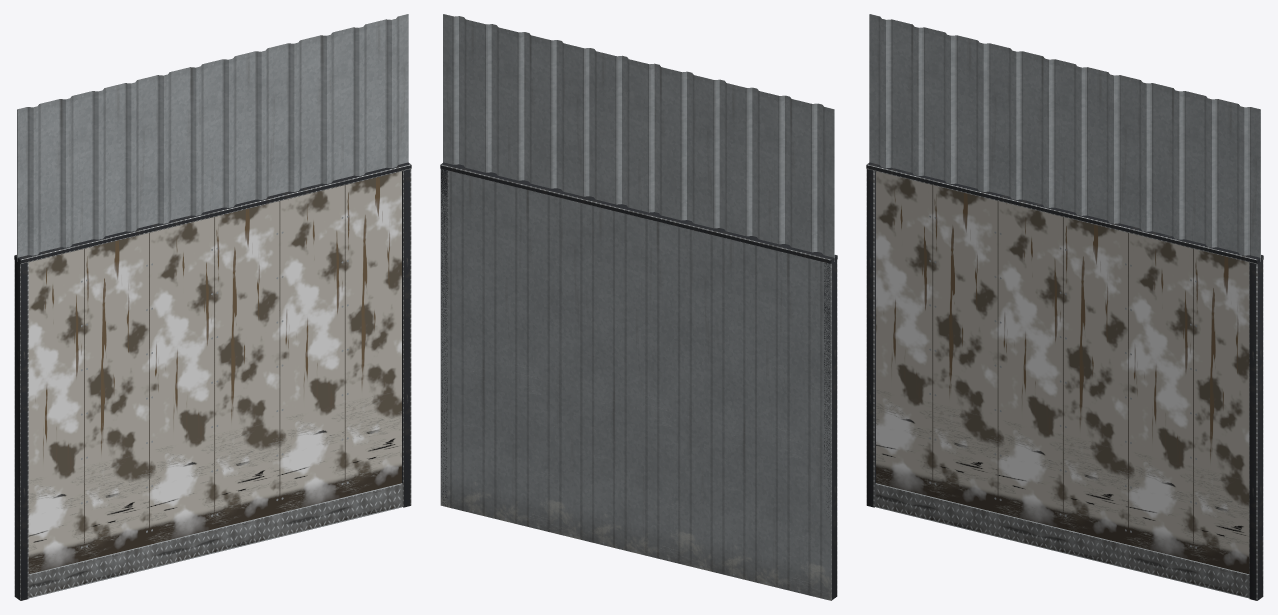
The model's file is Corridor_Wall.fbx.
3 renders of one model, left to right at view 1: azimuth 30°, elevation 25°; view 2: azimuth 150°, elevation 25°; view 3: azimuth 330°, elevation 25°, orthographic.
Visible parts, largest first — view 1: Facade, Panel, Trim; view 2: Panel, Trim; view 3: Facade, Panel, Trim.
Part boxes in pixels (x1,y1,x2,y2): Facade: (28,171,401,574); Panel: (17,14,408,261); Trim: (14,162,411,600); Panel: (440,14,834,600); Trim: (440,162,837,600); Facade: (876,171,1249,574); Panel: (869,14,1260,261); Trim: (866,162,1263,600).
Size of the model in its own units: 12 by 14.35 by 0.35.
Materials: 3 (3 with a texture image).
